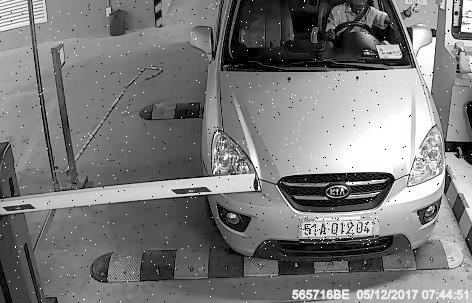License-plate: (300, 218, 380, 247)
